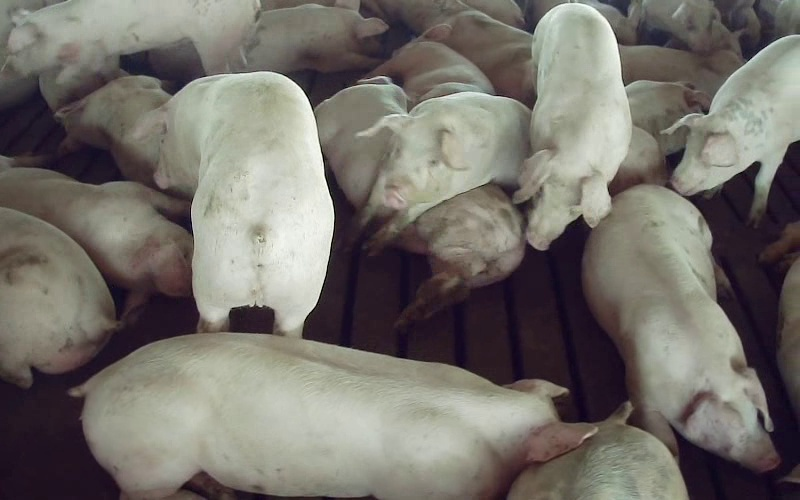pig: (72, 334, 595, 497), (582, 185, 779, 470), (135, 73, 333, 336), (514, 3, 631, 249), (359, 92, 530, 250), (667, 35, 799, 223), (7, 0, 258, 74), (55, 76, 170, 186), (315, 76, 406, 208), (609, 80, 709, 194), (370, 23, 494, 107), (246, 0, 388, 73), (443, 4, 535, 107), (619, 45, 743, 96)
